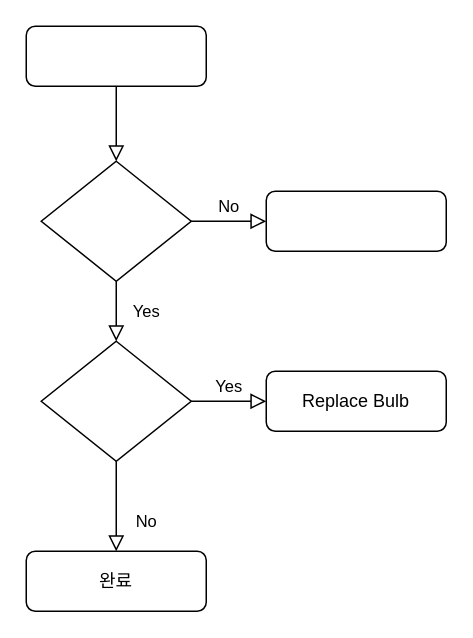
Image size: 473x638. Some labels were removed from this diagram. Each missing label, with the box of its shape:
Bulb burned out?: (40, 340, 191, 461)
시작: (25, 25, 206, 86)
